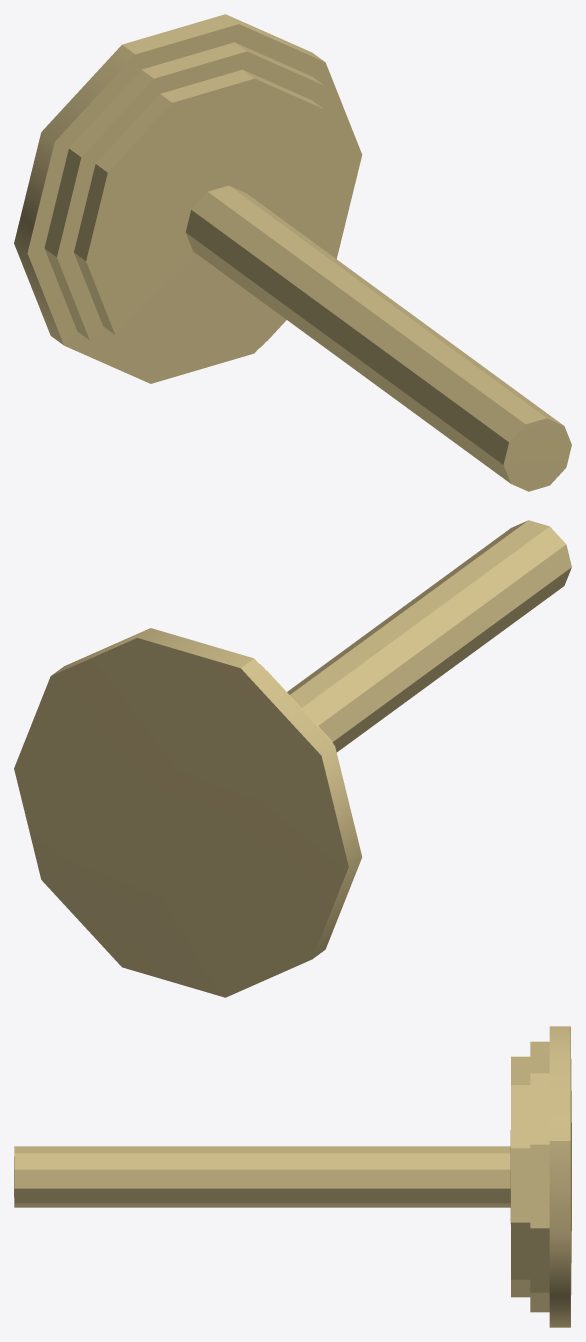
The model's file is tp_halter.fbx.
The picture shows the model from 3 angles, top to bottom: view 1: azimuth 30°, elevation 25°; view 2: azimuth 150°, elevation 25°; view 3: azimuth 270°, elevation 25°; orthographic projection. The views are drawn at different scales.
Parts seen in each view (by area): view 1: Papierhalter:Papierhalter; view 2: Papierhalter:Papierhalter; view 3: Papierhalter:Papierhalter.
Part boxes in pixels (<box>): Papierhalter:Papierhalter: <box>14,14,571,491</box>; Papierhalter:Papierhalter: <box>14,520,571,997</box>; Papierhalter:Papierhalter: <box>14,1026,571,1327</box>.
Size of the model in its own units: 44.61 by 43.09 by 82.43.
